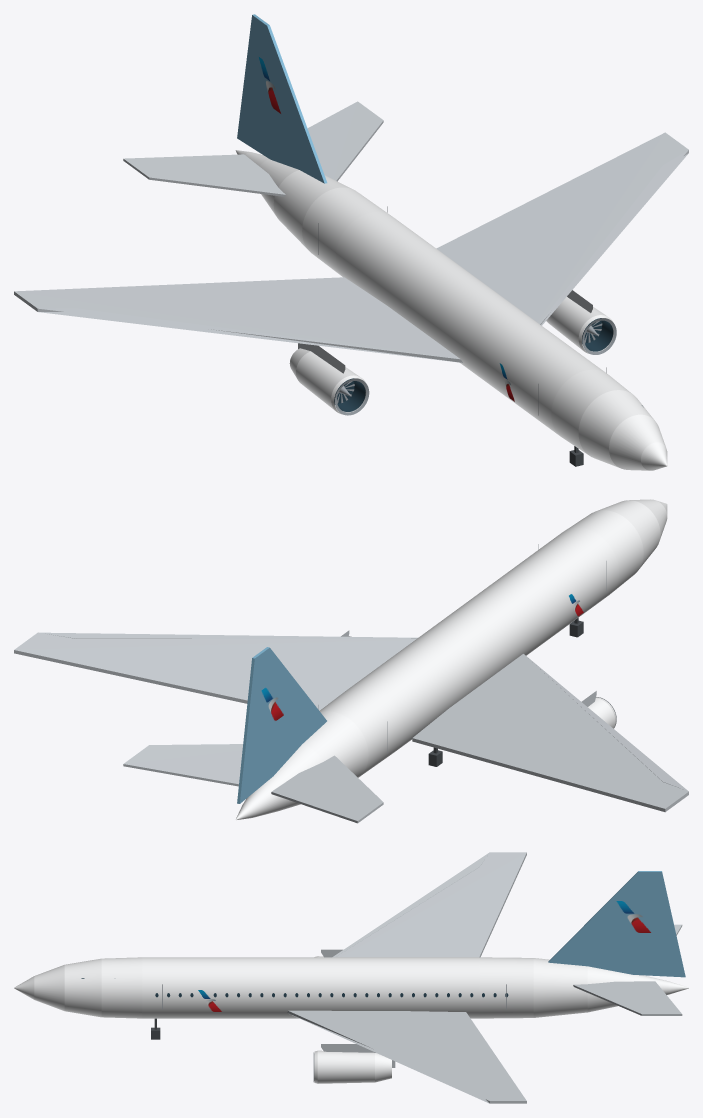
File: b767-AAL-v2.gltf
3 renders of one model, top to bottom at view 1: azimuth 30°, elevation 25°; view 2: azimuth 150°, elevation 25°; view 3: azimuth 270°, elevation 25°, orthographic. The views are drawn at different scales.
Visible parts, largest first — view 1: object 1; view 2: object 1; view 3: object 1.
Part boxes in pixels (x1,y1,x2,y2): object 1: (14, 14, 688, 470); object 1: (14, 499, 688, 823); object 1: (14, 852, 688, 1103).
Size of the model in its own units: 48 by 14.98 by 55.
7 materials, 1 textured.
